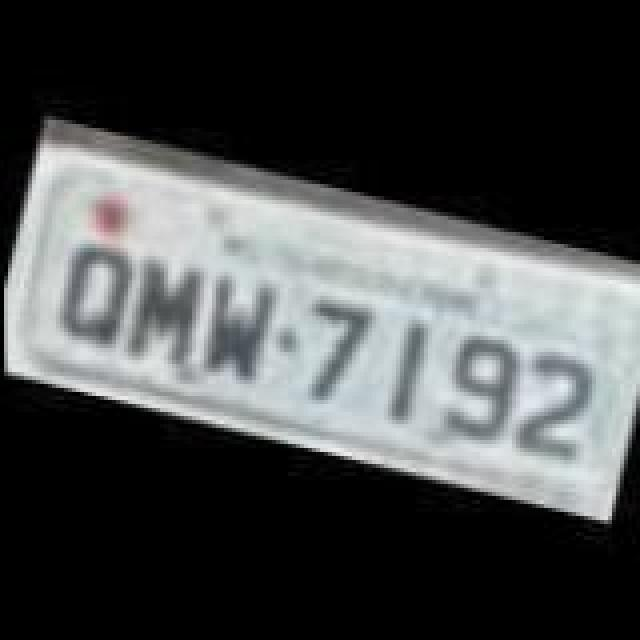1: (372, 316, 436, 432)
2: (506, 348, 602, 468)
7: (286, 290, 378, 414)
9: (430, 326, 526, 446)
M: (112, 244, 216, 376)
Q: (46, 238, 138, 354)
W: (190, 264, 282, 388)
